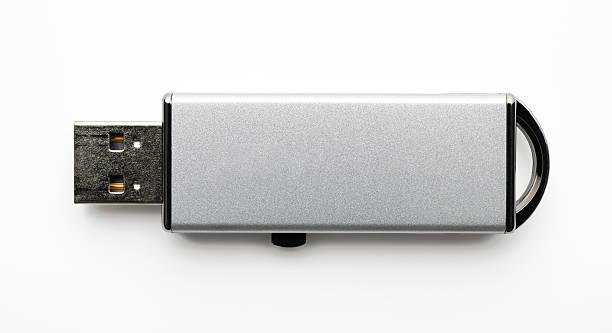USB Flash Drive: (74, 92, 550, 236)
